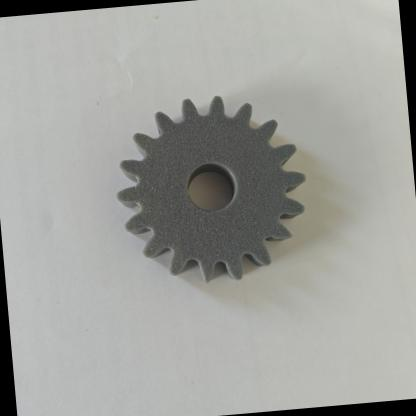gear: (98, 78, 328, 307)
